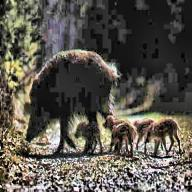boar: (0, 53, 122, 164), (141, 115, 182, 166), (68, 116, 109, 162), (105, 127, 142, 158)
